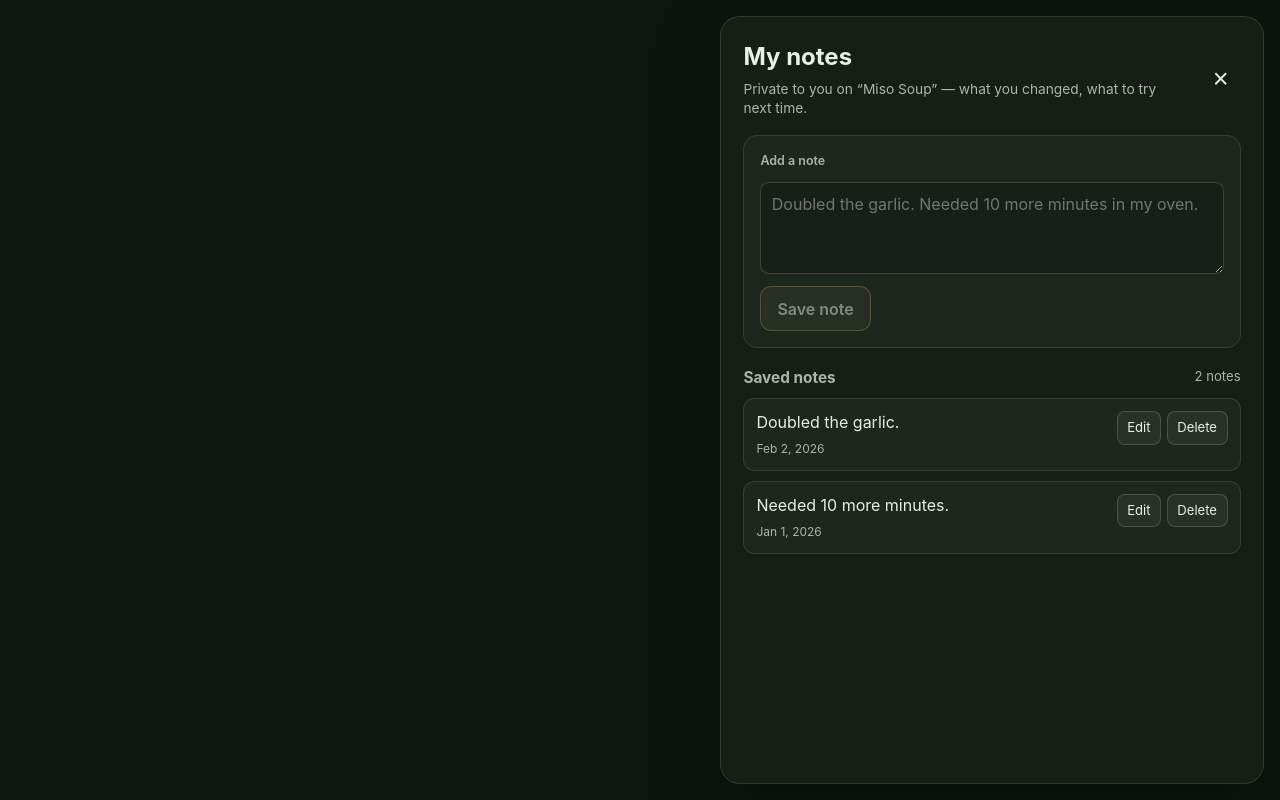
Test: RecipeNotesModal › leaves the editor open when the update fails
Click the button with aria-label "Edit note 1" at (1139, 428), box [1116, 411, 1161, 445]
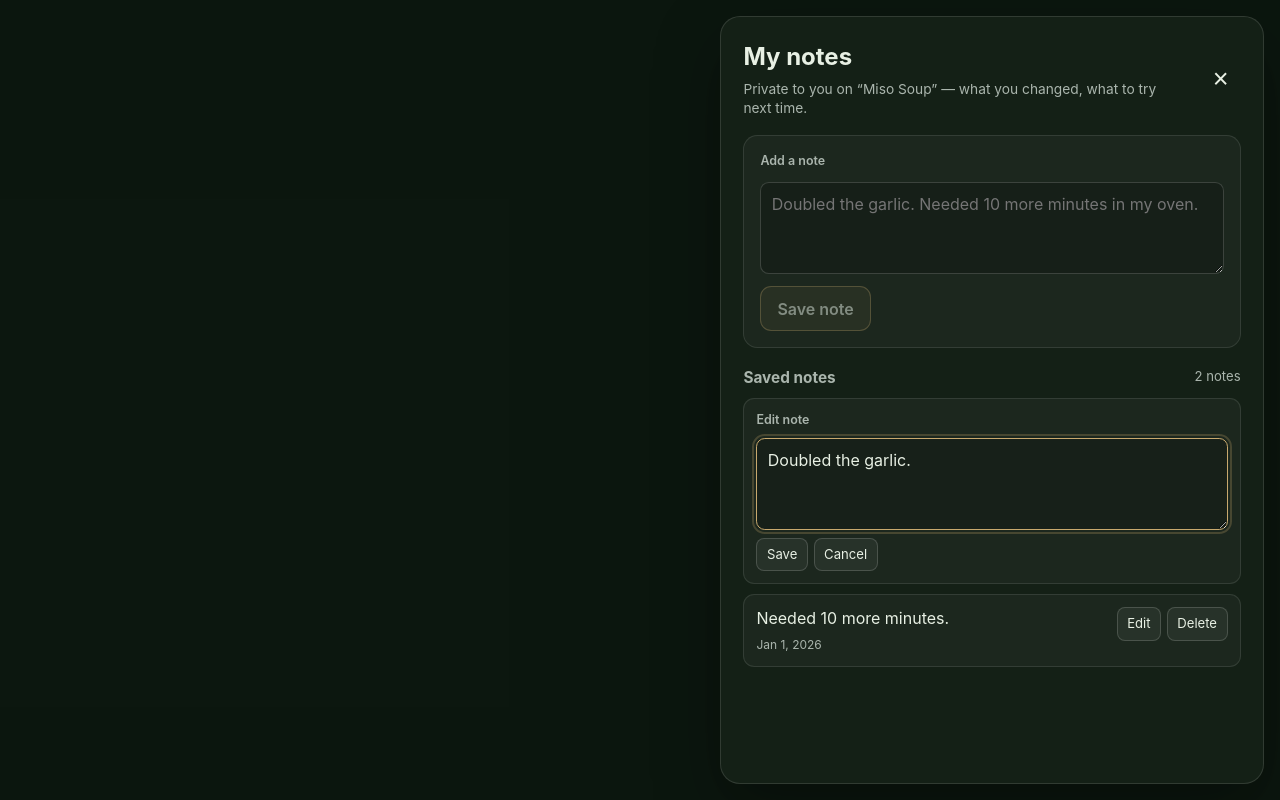
Click the button "Save" at (782, 554), box [756, 538, 808, 571]
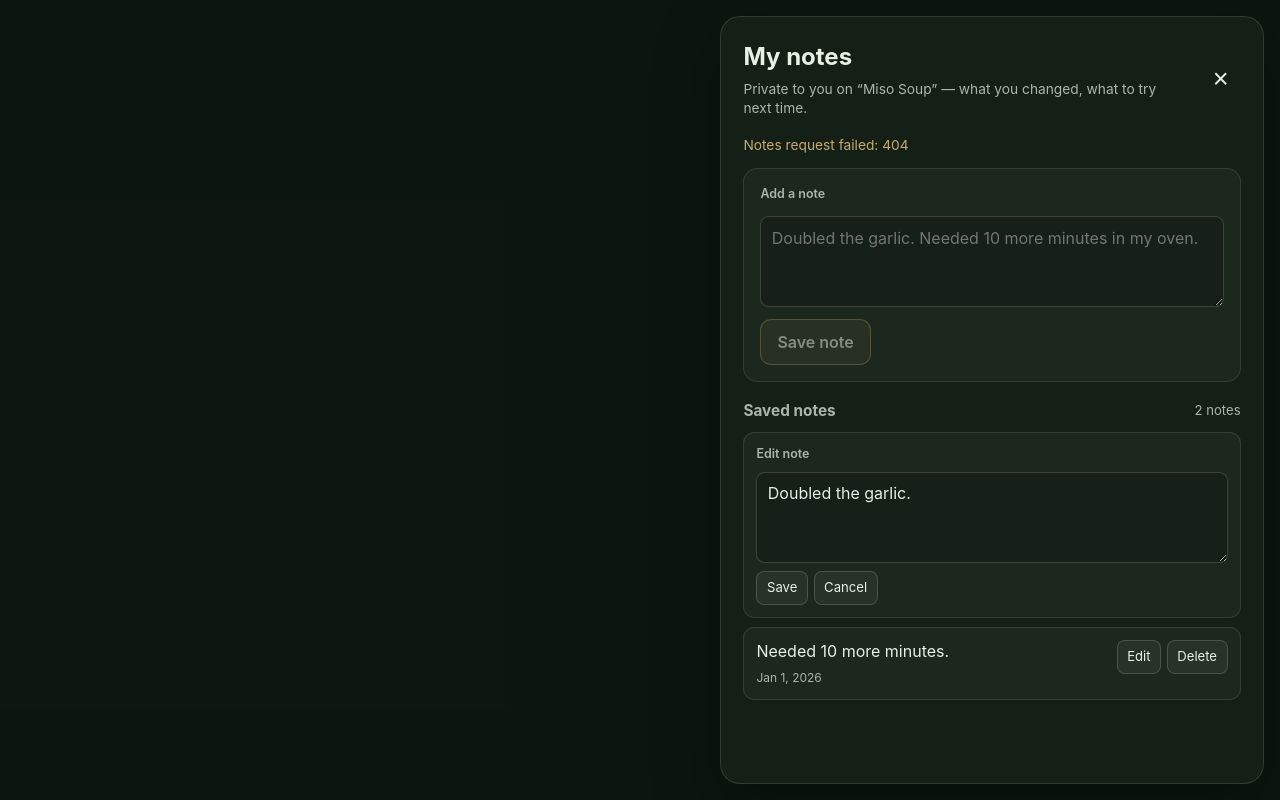
Check: the text box labelled "Edit note" is shown, box [756, 472, 1228, 563]
Check: the text "Notes request failed: 404" is shown, box [743, 137, 909, 153]
